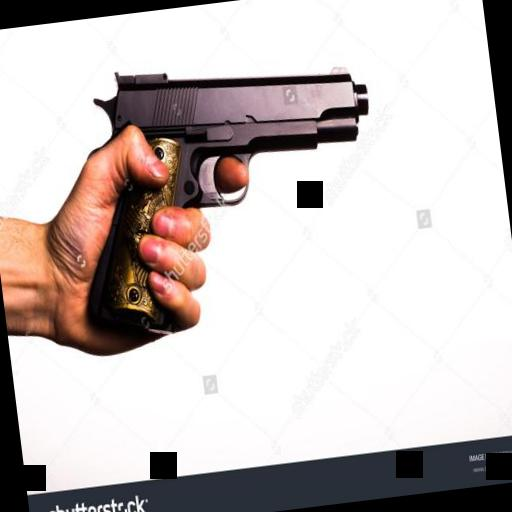Handgun: (60, 38, 392, 340)
